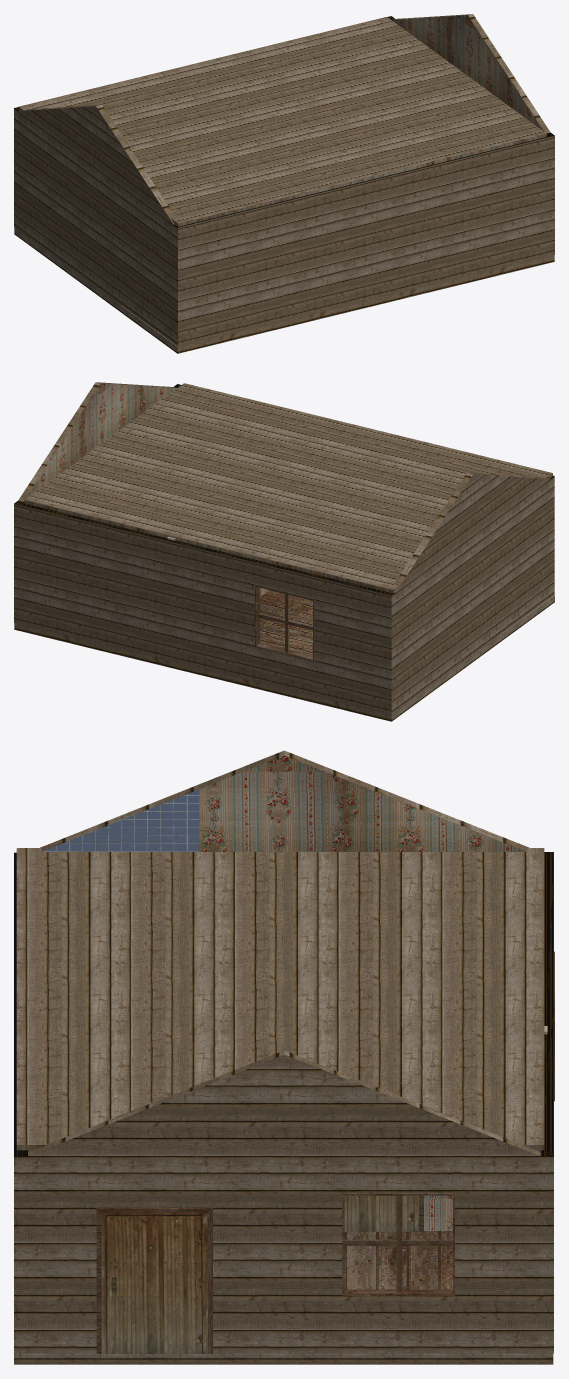
File: house.glb
3 views of the same model, one above another, from view 1: azimuth 30°, elevation 25°; view 2: azimuth 150°, elevation 25°; view 3: azimuth 270°, elevation 25° (orthographic). The views are drawn at different scales.
Parts seen in each view (by area): view 1: house_wood_walls001_0.001, roof.001_wood_walls001_0.001, house_wallpaper001_0.001, floor_wood_walls001_0.001; view 2: house_wood_walls001_0.001, roof.001_wood_walls001_0.001, house_wallpaper001_0.001, floor_wood_walls001_0.001, floor_floor_0.001, house_woodenframe001_0.001, Cube.001_wood003_0.001; view 3: roof.001_wood_walls001_0.001, house_wood_walls001_0.001, house_wallpaper001_0.001, door_door_0.001, floor_wood_walls001_0.001, floor_floor_0.001, house_bathroom_wall001_0.001, house_woodenframe001_0.001, door.002_door.002_0.001, Cube_wood003_0.001, walls_wallpaper001_0.001.
Boxes of the visible parts, x1=… form: house_wood_walls001_0.001: x1=14, y1=14, x2=554, y2=346; roof.001_wood_walls001_0.001: x1=18, y1=17, x2=546, y2=226; house_wallpaper001_0.001: x1=392, y1=15, x2=543, y2=131; floor_wood_walls001_0.001: x1=14, y1=228, x2=554, y2=353; house_wood_walls001_0.001: x1=14, y1=382, x2=554, y2=714; roof.001_wood_walls001_0.001: x1=24, y1=383, x2=552, y2=592; house_wallpaper001_0.001: x1=23, y1=383, x2=176, y2=501; floor_wood_walls001_0.001: x1=14, y1=595, x2=554, y2=721; floor_floor_0.001: x1=260, y1=590, x2=495, y2=655; house_woodenframe001_0.001: x1=255, y1=585, x2=314, y2=661; Cube.001_wood003_0.001: x1=257, y1=593, x2=312, y2=652; roof.001_wood_walls001_0.001: x1=16, y1=848, x2=544, y2=1151; house_wood_walls001_0.001: x1=14, y1=750, x2=553, y2=1353; house_wallpaper001_0.001: x1=199, y1=755, x2=526, y2=851; door_door_0.001: x1=101, y1=1212, x2=207, y2=1353; floor_wood_walls001_0.001: x1=14, y1=1353, x2=553, y2=1364; floor_floor_0.001: x1=344, y1=1231, x2=452, y2=1289; house_bathroom_wall001_0.001: x1=42, y1=789, x2=199, y2=851; house_woodenframe001_0.001: x1=96, y1=951, x2=554, y2=1353; door.002_door.002_0.001: x1=344, y1=1195, x2=418, y2=1231; Cube_wood003_0.001: x1=344, y1=1195, x2=452, y2=1292; walls_wallpaper001_0.001: x1=424, y1=1026, x2=547, y2=1230.
Bounding box in the file's own units: 6.32 × 3 × 4.74.
10 materials, 10 textured.
